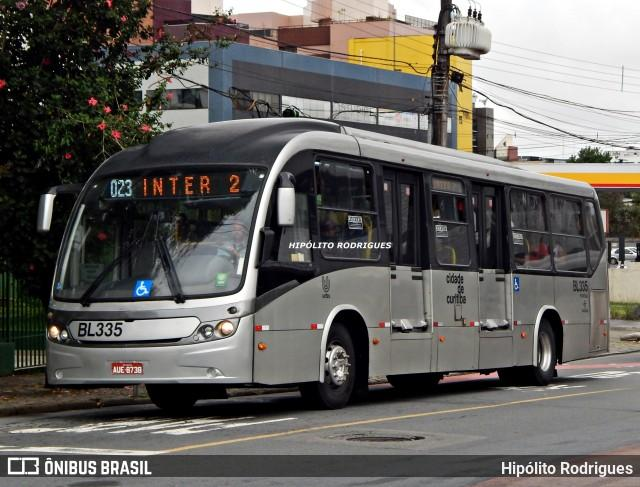INTER 2: (138, 171, 244, 202)
